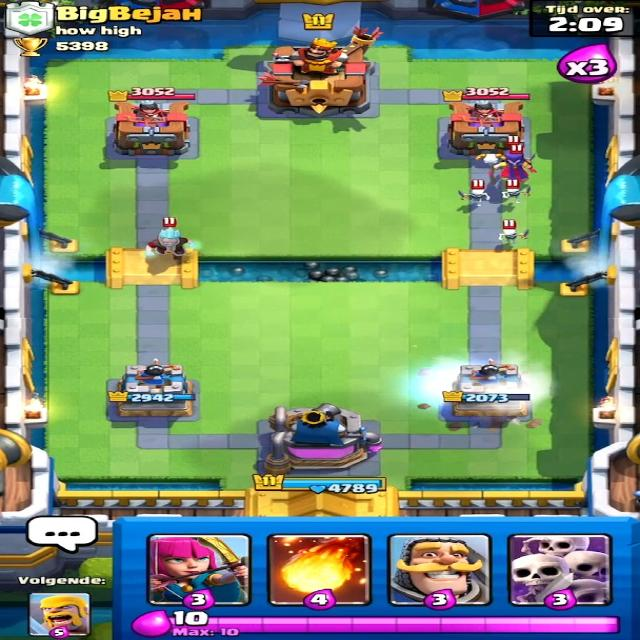Enemy_Ice_Wizard_Troop: (142, 227, 200, 266)
Enemy_Skeleton_Troop: (493, 227, 533, 246), (498, 185, 533, 204), (460, 187, 491, 206)
Enemy_Witch_Troop: (480, 147, 543, 188)
Fireball_Card: (274, 538, 367, 605)
